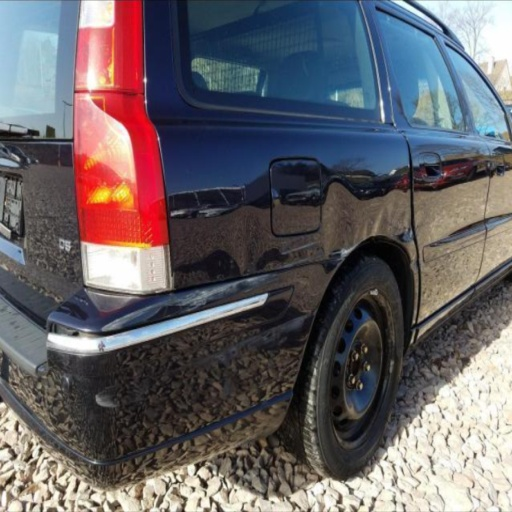dent: (322, 168, 410, 250), (233, 209, 264, 277)
scratch: (101, 274, 279, 333), (193, 314, 307, 362), (279, 240, 361, 269), (280, 240, 316, 256), (95, 389, 123, 408), (397, 228, 414, 242)
